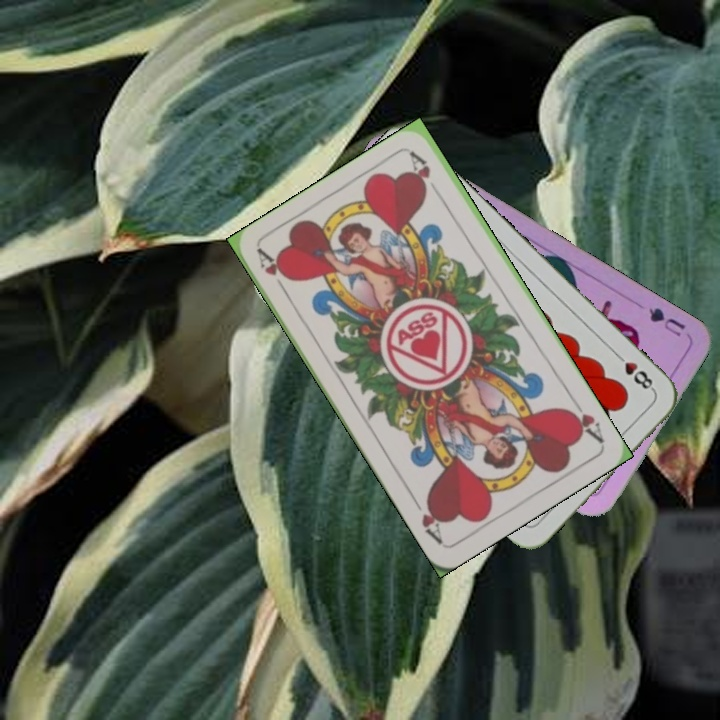GU: (644, 303, 688, 340)
H8: (610, 348, 657, 394)
HA: (562, 393, 607, 446), (253, 246, 293, 300)
